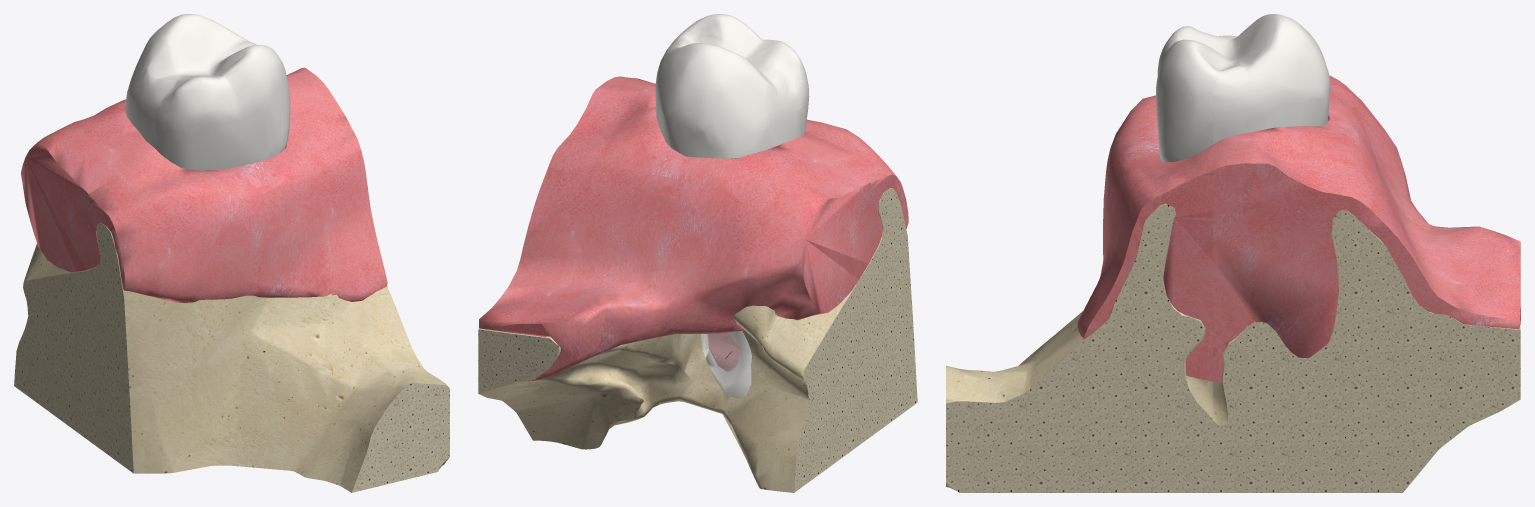
3 renders of one model, left to right at view 1: azimuth 30°, elevation 25°; view 2: azimuth 150°, elevation 25°; view 3: azimuth 270°, elevation 25°, orthographic. The views are drawn at different scales.
Visible parts, largest first — view 1: kompakta_b, gingiva_b, schmelz_b, gingiva_a, kompakta_a, schmelz_a; view 2: gingiva_a, kompakta_a, schmelz_a, kompakta_b, gingiva_b, schmelz_b, lamina_dura_a, desmodont_a; view 3: kompakta_a, gingiva_a, kompakta_b, gingiva_b, schmelz_a, schmelz_b.
Part boxes in pixels (<box>): kompakta_b: <box>88,222,449,492</box>; gingiva_b: <box>88,91,387,303</box>; schmelz_b: <box>155,45,290,170</box>; gingiva_a: <box>21,67,329,272</box>; kompakta_a: <box>14,244,88,439</box>; schmelz_a: <box>125,14,257,148</box>; gingiva_a: <box>479,76,870,381</box>; kompakta_a: <box>478,261,870,492</box>; schmelz_a: <box>655,32,801,158</box>; kompakta_b: <box>870,188,917,436</box>; gingiva_b: <box>622,76,908,259</box>; schmelz_b: <box>681,14,809,136</box>; lamina_dura_a: <box>701,331,751,398</box>; desmodont_a: <box>707,332,738,371</box>; kompakta_a: <box>1213,210,1520,492</box>; gingiva_a: <box>1213,75,1520,382</box>; kompakta_b: <box>946,203,1213,492</box>; gingiva_b: <box>1076,95,1213,381</box>; schmelz_a: <box>1213,14,1330,144</box>; schmelz_b: <box>1156,26,1213,162</box>.
Size of the model in its own units: 0.0178 by 0.0261 by 0.0329.
Materials: 21 (8 with a texture image).
